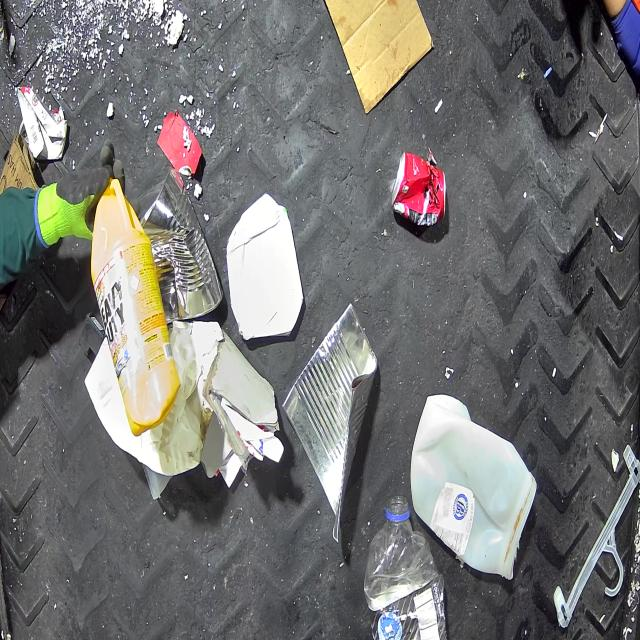can: (391, 150, 446, 226)
milk_jug: (409, 394, 536, 582)
non_white_jug: (90, 178, 182, 438)
plastic_bottle: (364, 496, 447, 640)
